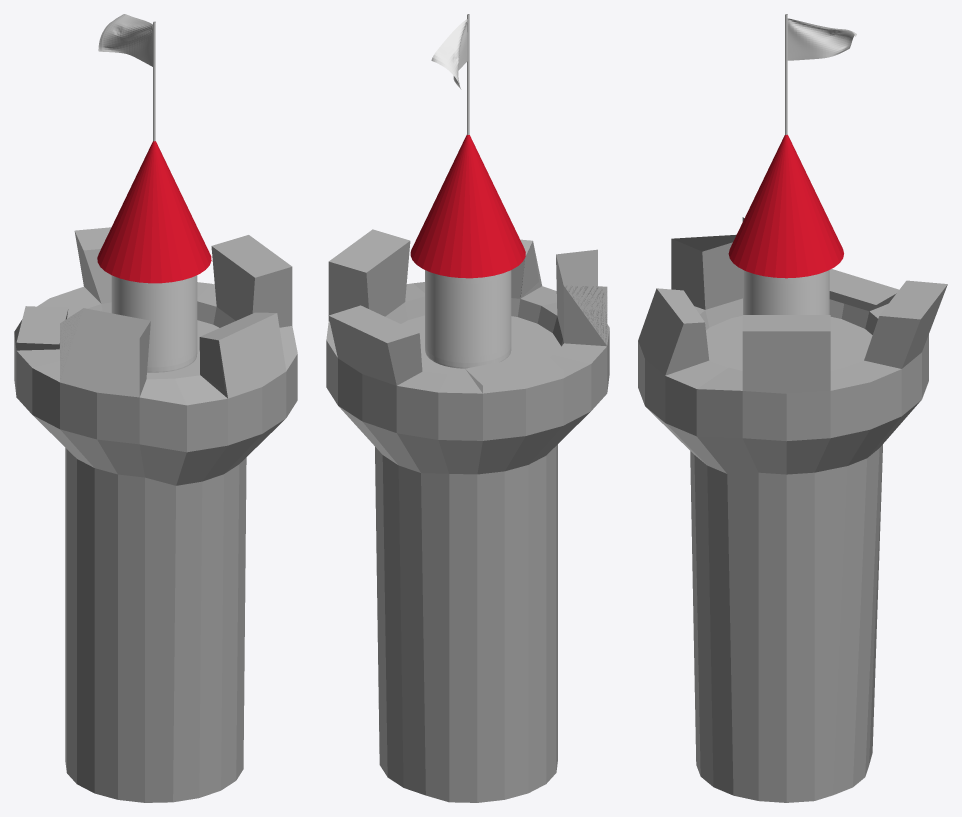
Rendered from TowerD1.fbx.
The picture shows the model from 3 angles, left to right: view 1: azimuth 30°, elevation 25°; view 2: azimuth 150°, elevation 25°; view 3: azimuth 270°, elevation 25°; orthographic projection.
Visible parts, largest first — view 1: Cylinder, Cone, Cylinder.001, Plane; view 2: Cylinder, Cone, Cylinder.001, Plane; view 3: Cylinder, Cone, Cylinder.001, Plane.
Boxes of the visible parts, left/top/right/bottom form: Cylinder: left=14, top=227, right=297, bottom=802; Cone: left=97, top=141, right=211, bottom=283; Cylinder.001: left=111, top=275, right=197, bottom=372; Plane: left=98, top=14, right=152, bottom=66; Cylinder: left=326, top=229, right=609, bottom=802; Cone: left=410, top=135, right=525, bottom=278; Cylinder.001: left=425, top=270, right=511, bottom=368; Plane: left=431, top=19, right=467, bottom=89; Cylinder: left=638, top=217, right=947, bottom=802; Cone: left=728, top=134, right=843, bottom=278; Cylinder.001: left=743, top=270, right=829, bottom=314; Plane: left=787, top=18, right=856, bottom=60.
Bounding box in the file's own units: 857 × 2495 × 933.
